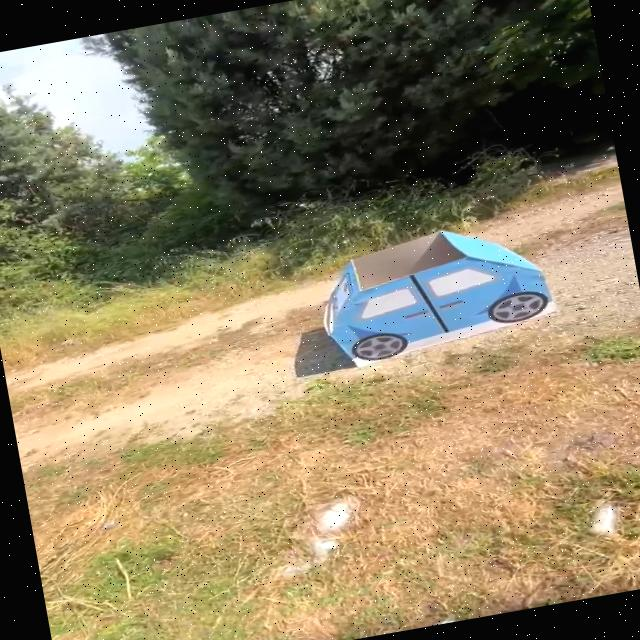blue_car: (300, 204, 572, 380)
